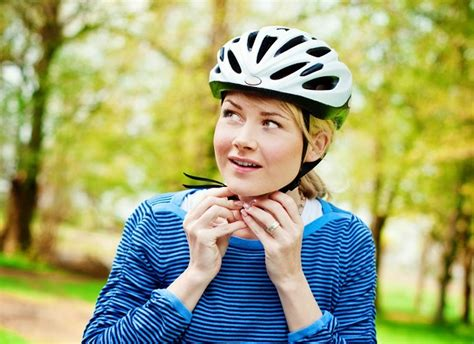com_capacete_bicicleta: (208, 24, 353, 197)
